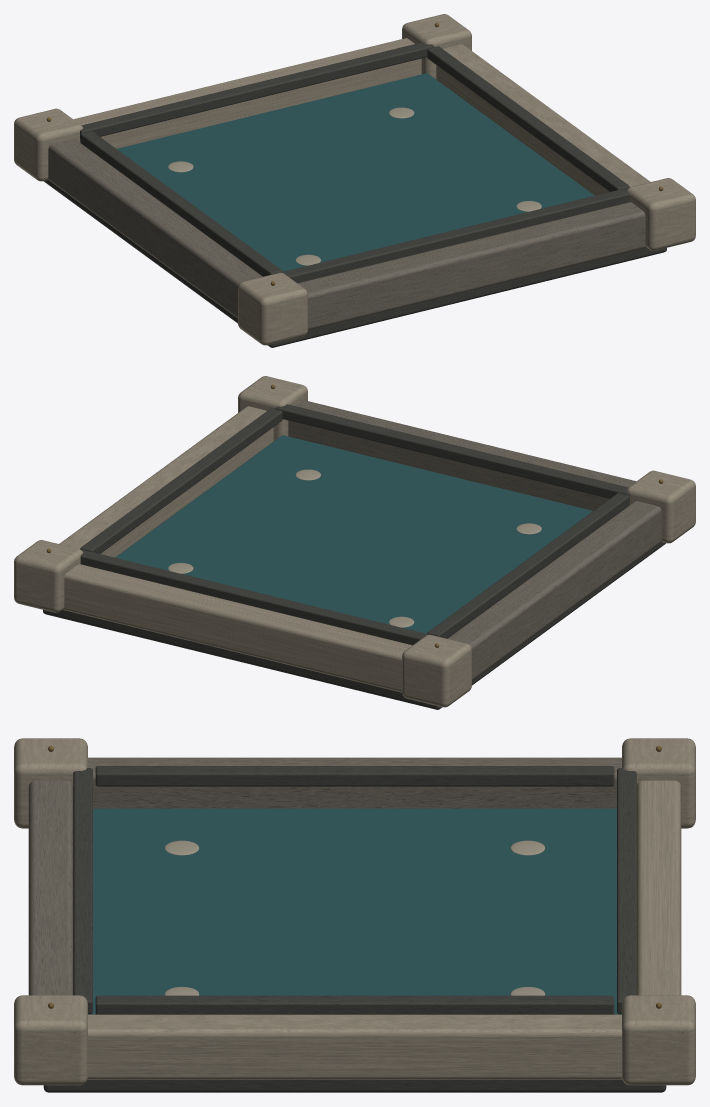
File: holy_pool.glb
3 renders of one model, top to bottom at view 1: azimuth 30°, elevation 25°; view 2: azimuth 150°, elevation 25°; view 3: azimuth 270°, elevation 25°, orthographic. The views are drawn at different scales.
Parts seen in each view (by area): view 1: holy_pool; view 2: holy_pool; view 3: holy_pool.
Boxes of the visible parts, bbox=[...] form: holy_pool: bbox=[14, 14, 695, 347]; holy_pool: bbox=[14, 376, 695, 709]; holy_pool: bbox=[14, 738, 695, 1092].
Size of the model in its own units: 2.8 by 0.4 by 2.8.
Materials: 1 (1 with a texture image).
